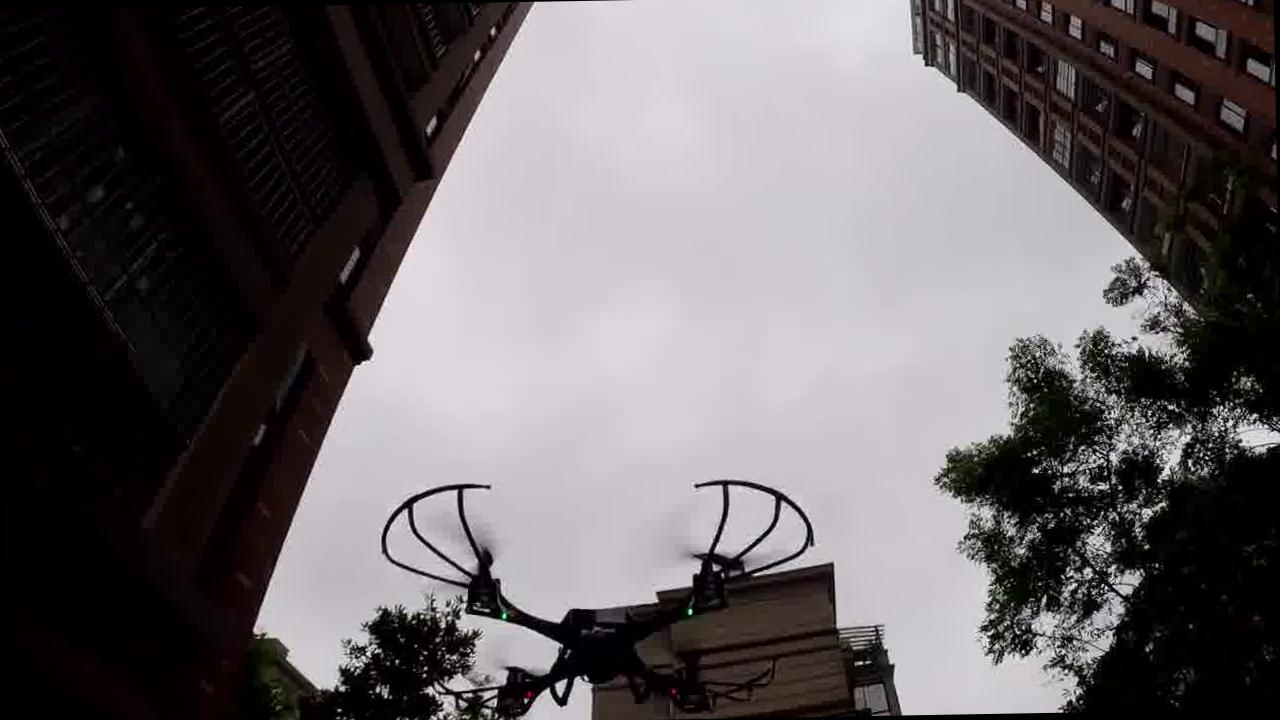drone: (365, 472, 801, 719)
